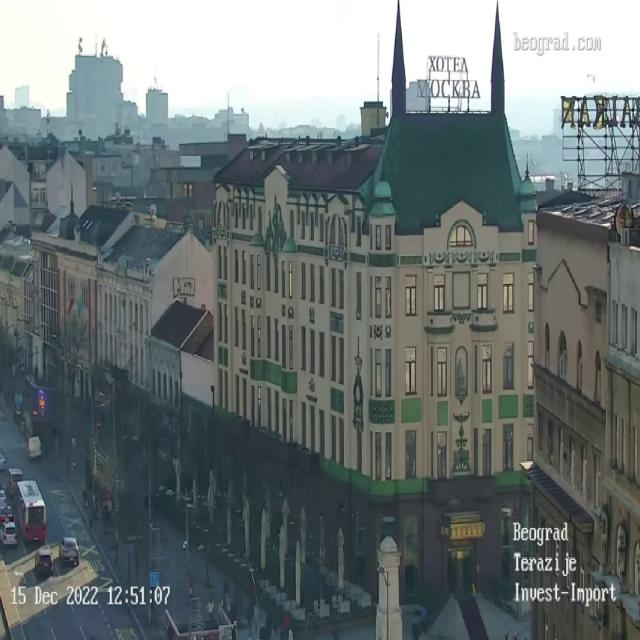bus: (15, 480, 46, 540)
car: (34, 544, 54, 582), (60, 536, 79, 566), (6, 466, 24, 490), (1, 518, 15, 544), (27, 435, 39, 460), (0, 486, 8, 505), (2, 505, 11, 520), (1, 456, 7, 471)
